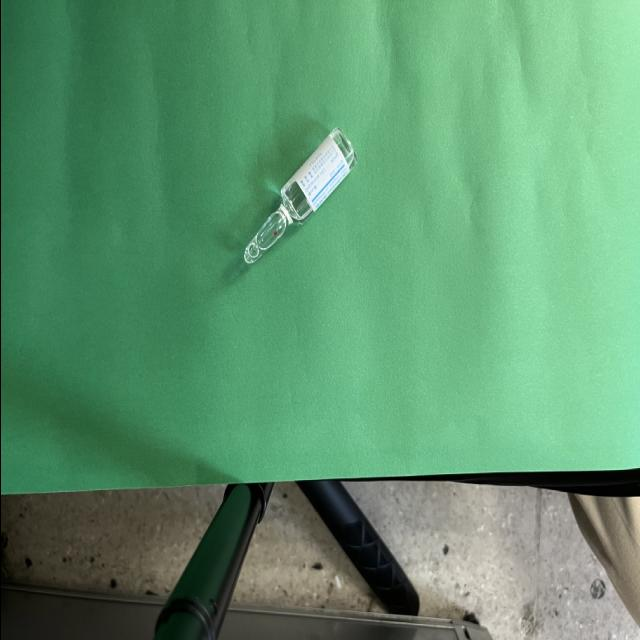Ampoules: (243, 129, 354, 264)
